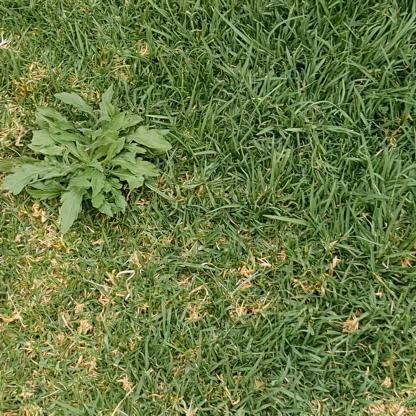Weeds: (0, 78, 175, 235)
